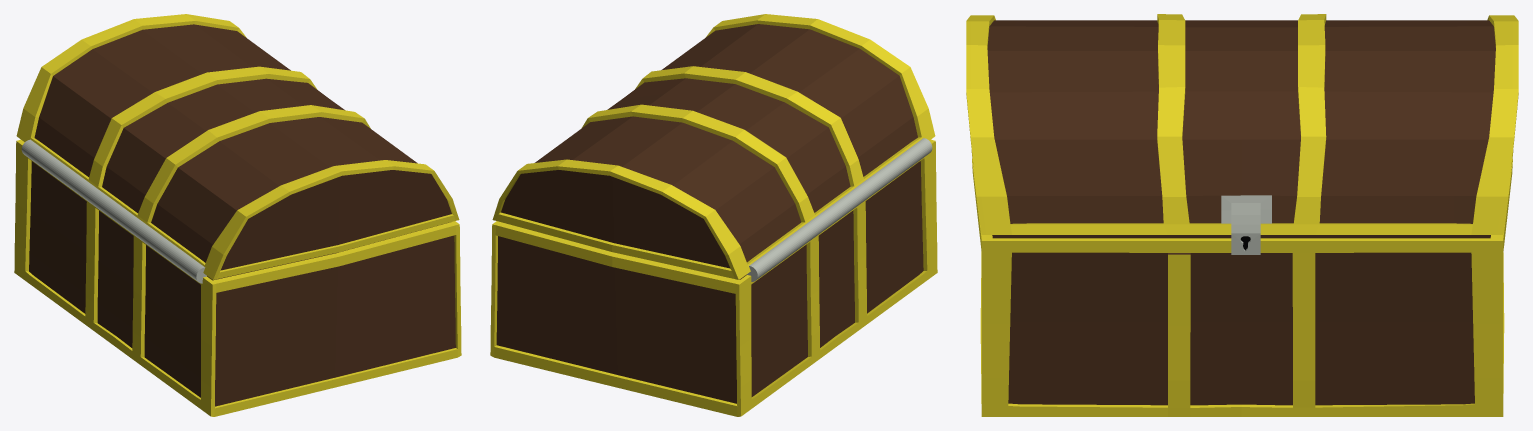
File: Bau-v4.fbx
3 renders of one model, left to right at view 1: azimuth 30°, elevation 25°; view 2: azimuth 150°, elevation 25°; view 3: azimuth 270°, elevation 25°, orthographic. The views are drawn at different scales.
Visible parts, largest first — view 1: BauMerged; view 2: BauMerged; view 3: BauMerged.
Part boxes in pixels (x1,y1,x2,y2): BauMerged: [14, 14, 461, 416]; BauMerged: [490, 14, 937, 416]; BauMerged: [966, 14, 1518, 416].
Size of the model in its own units: 505 by 415 by 710.
